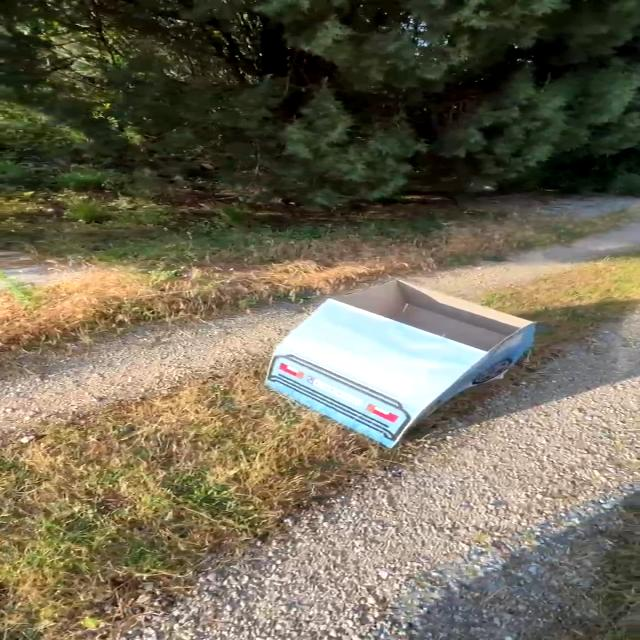blue_car: (209, 257, 573, 463)
